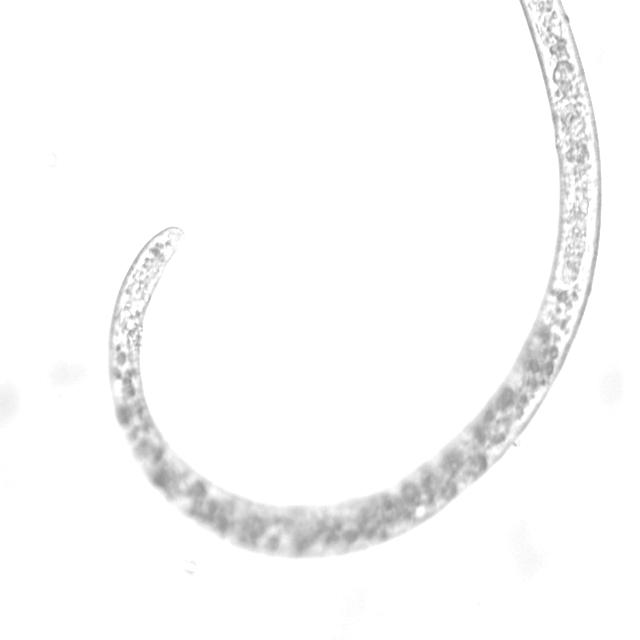Helicotylenchus: (98, 0, 603, 587)
